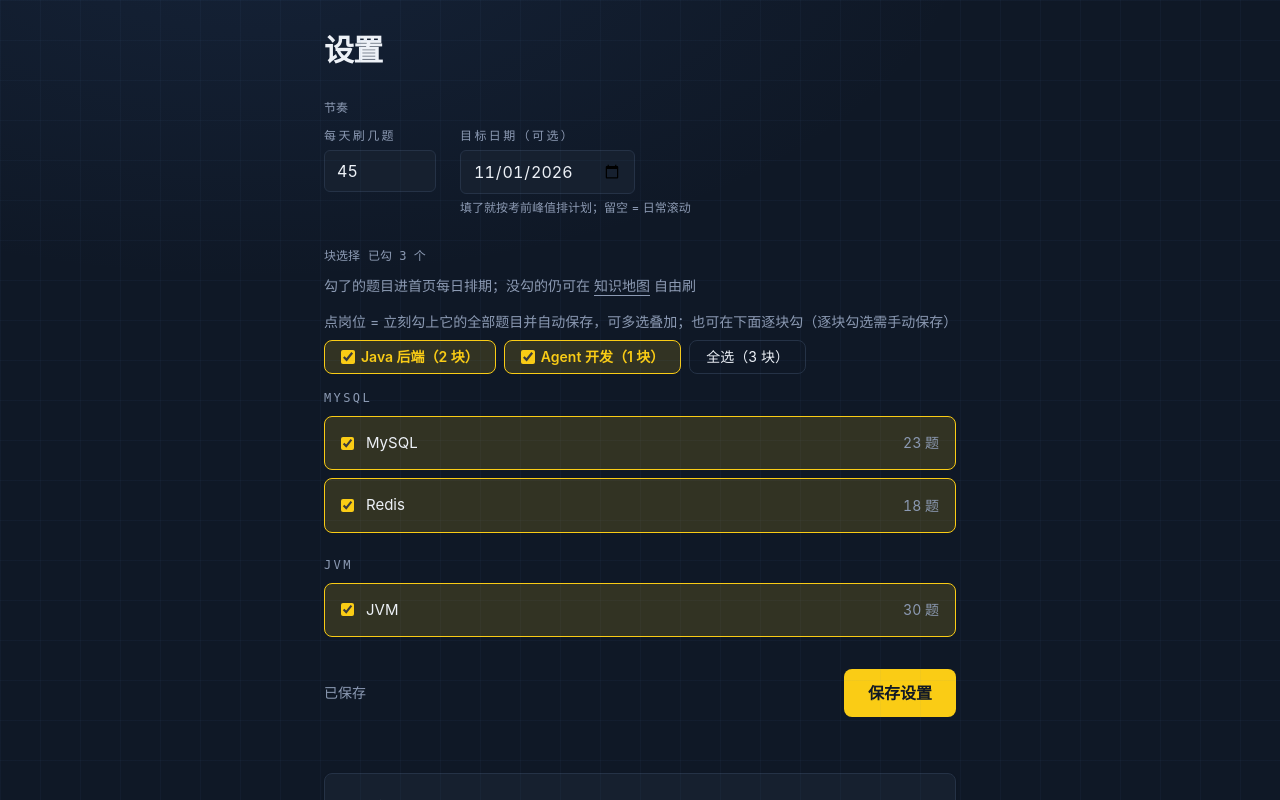
it: 岗位的块被手动取消一块 → 该岗位 chip 不再高亮（高亮 = 完整勾着的岗位）
Expected: the checkbox labelled "Java 后端（2 块）" is checked, [341, 350, 355, 364]
Click the checkbox labelled "JVM 30 题" at {"x": 348, "y": 610}, box [341, 603, 354, 616]
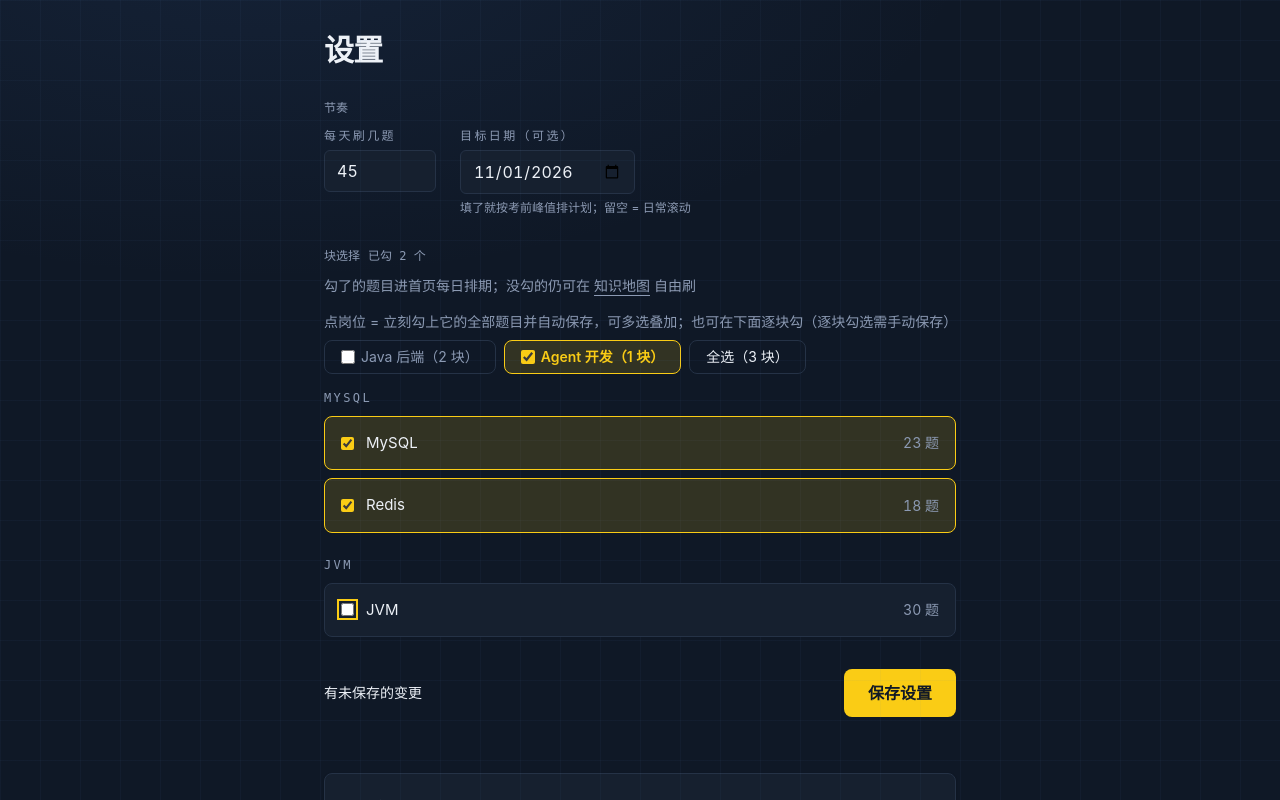
Expected: the checkbox labelled "Agent 开发（1 块）" is checked, [521, 350, 535, 364]
Expected: the checkbox labelled "Java 后端（2 块）" is not checked, [341, 350, 355, 364]
